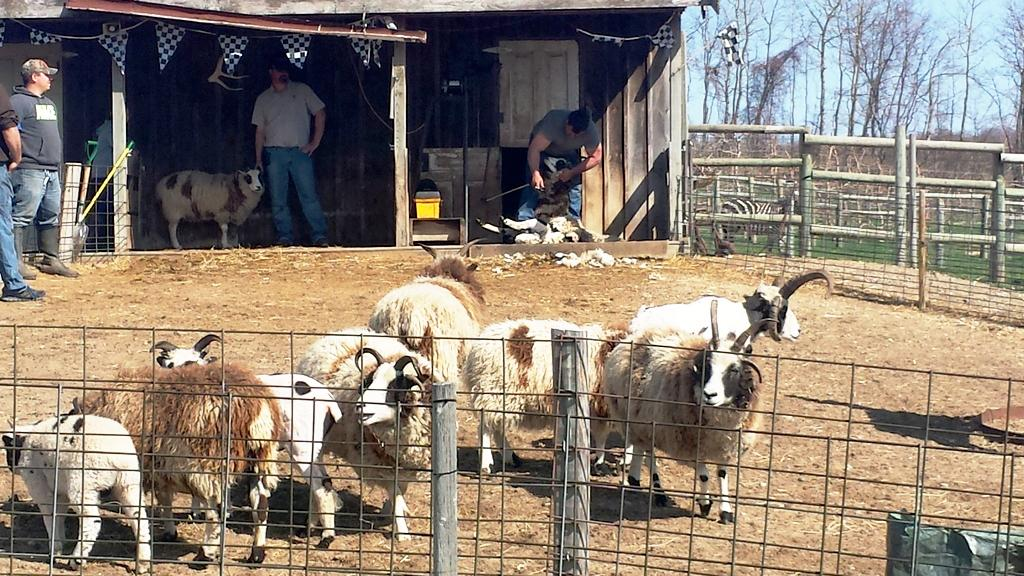Sheep: (65, 363, 289, 568), (606, 314, 802, 529), (288, 314, 453, 550), (461, 318, 649, 481), (0, 405, 142, 576), (361, 239, 493, 410), (151, 164, 278, 259), (501, 146, 595, 243)
